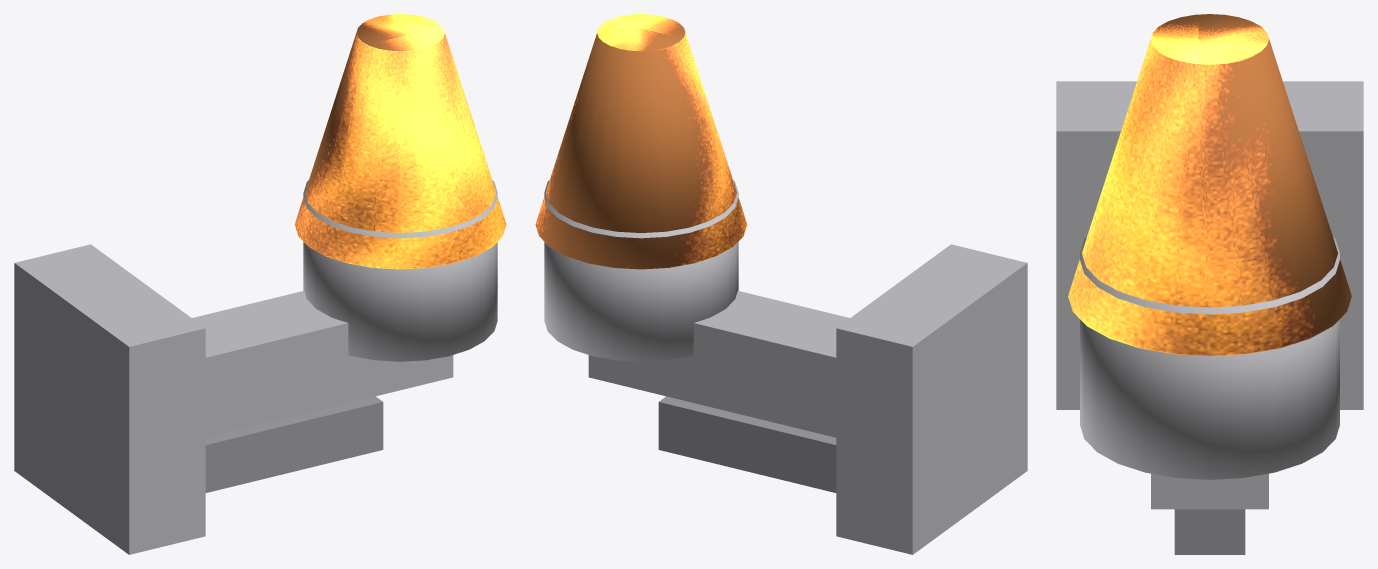
File: torch.glb
3 renders of one model, left to right at view 1: azimuth 30°, elevation 25°; view 2: azimuth 150°, elevation 25°; view 3: azimuth 270°, elevation 25°, orthographic. The views are drawn at different scales.
Visible parts, largest first — view 1: Cube; view 2: Cube; view 3: Cube.
Boxes of the visible parts, <box> form: Cube: <box>14,14,506,554</box>; Cube: <box>535,14,1027,554</box>; Cube: <box>1056,14,1363,554</box>.
Size of the model in its own units: 0.275 by 0.25 by 0.13.
